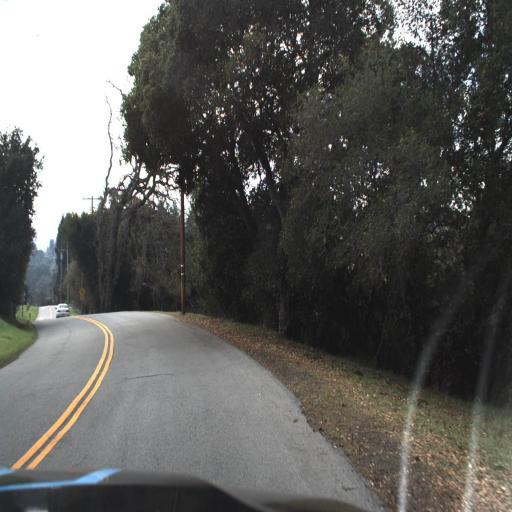car: (51, 290, 73, 322)
